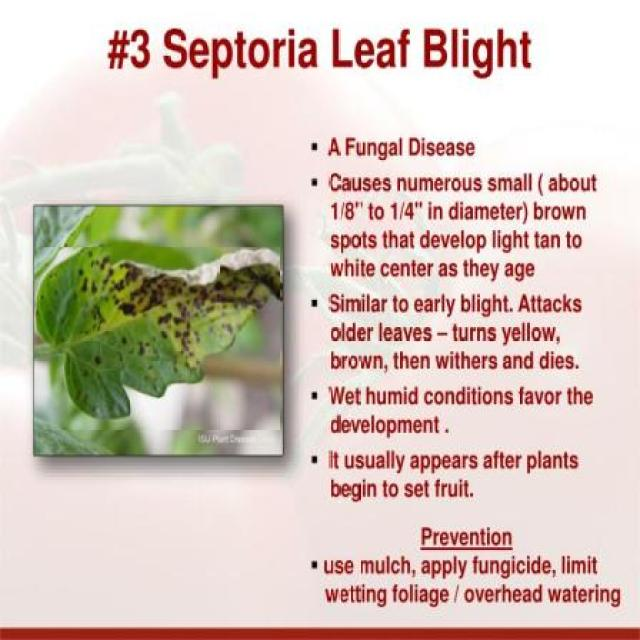Septoria: (34, 248, 280, 431)
